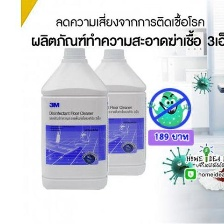cleaning_solution: (37, 45, 110, 194), (78, 47, 148, 179)
